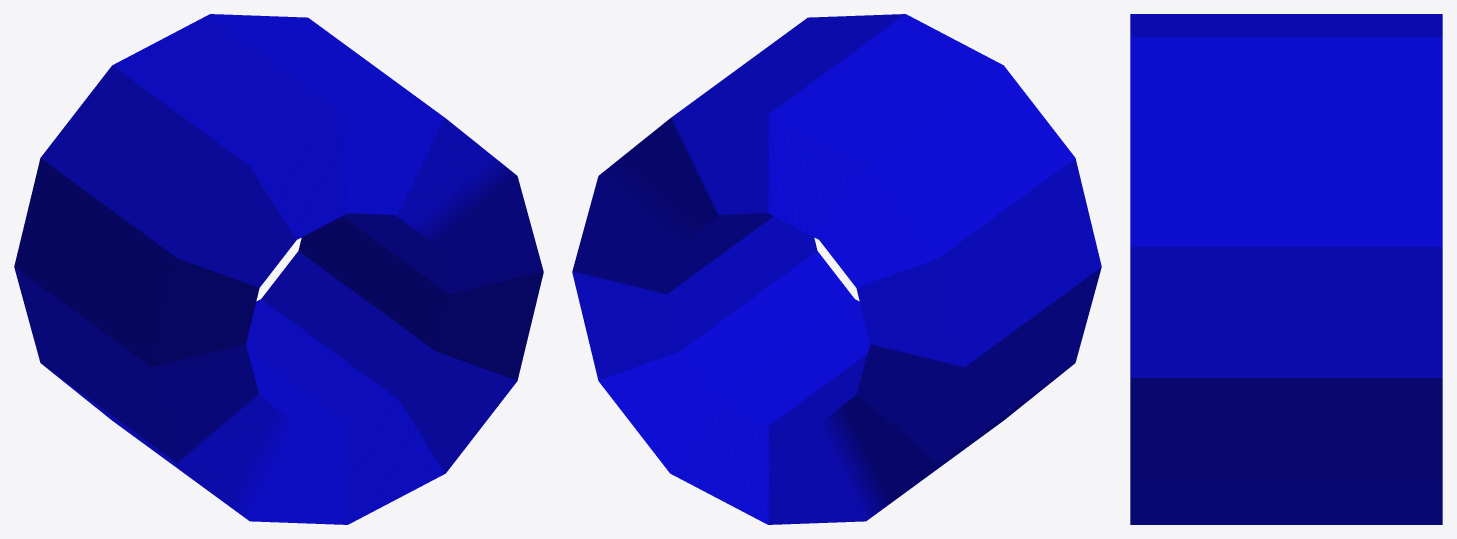
Rendered from HCalBarrel.gltf.
3 renders of one model, left to right at view 1: azimuth 30°, elevation 25°; view 2: azimuth 150°, elevation 25°; view 3: azimuth 270°, elevation 25°, orthographic. The views are drawn at different scales.
Parts seen in each view (by area): view 1: HCalBarrel; view 2: HCalBarrel; view 3: HCalBarrel.
Boxes of the visible parts, x1,y1,x2,y2 form: HCalBarrel: (14, 14, 543, 524); HCalBarrel: (572, 14, 1101, 524); HCalBarrel: (1130, 14, 1442, 524).
Size of the model in its own units: 8463 by 8463 by 5149.
